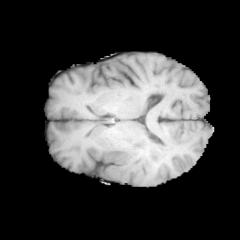glioma: (101, 137, 170, 181)
